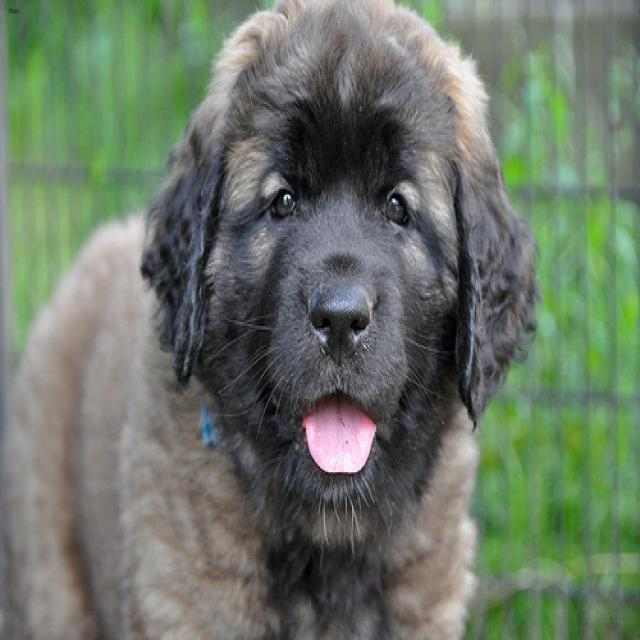dog-leonberger: (1, 2, 558, 636)
